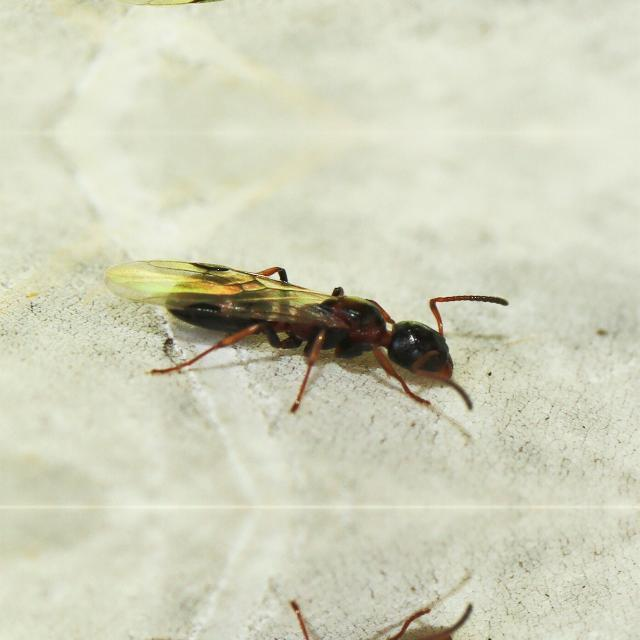Dolichoderus: (126, 250, 504, 412), (126, 600, 504, 640)
